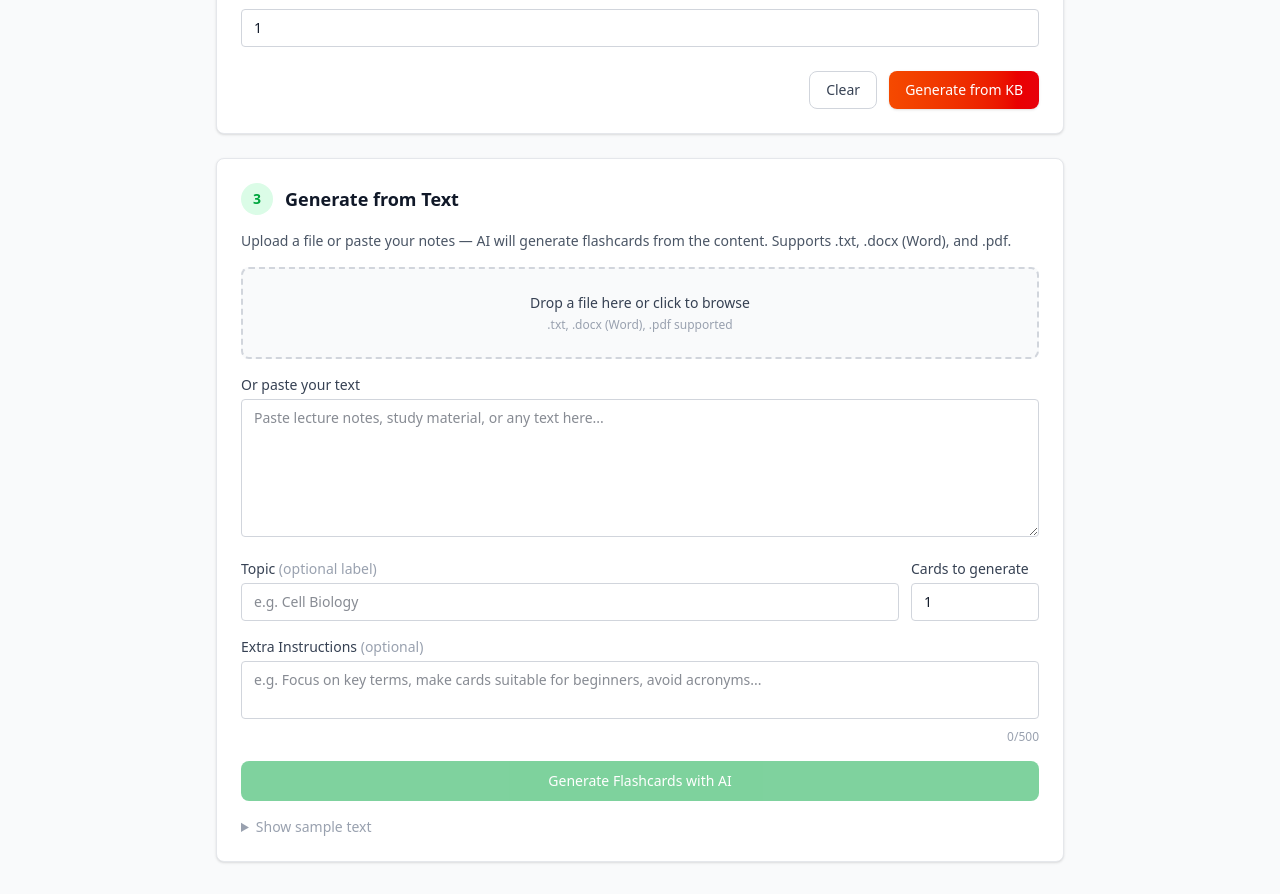
Test: CreateCardPage — generate from text › review modal shows Discard All and Save buttons
(page scrolled)
Type "Some notes" into the text box with placeholder "Paste lecture notes, study material, or any text here...".
click(640, 468); type("Some notes")  # box [241, 399, 1039, 537]
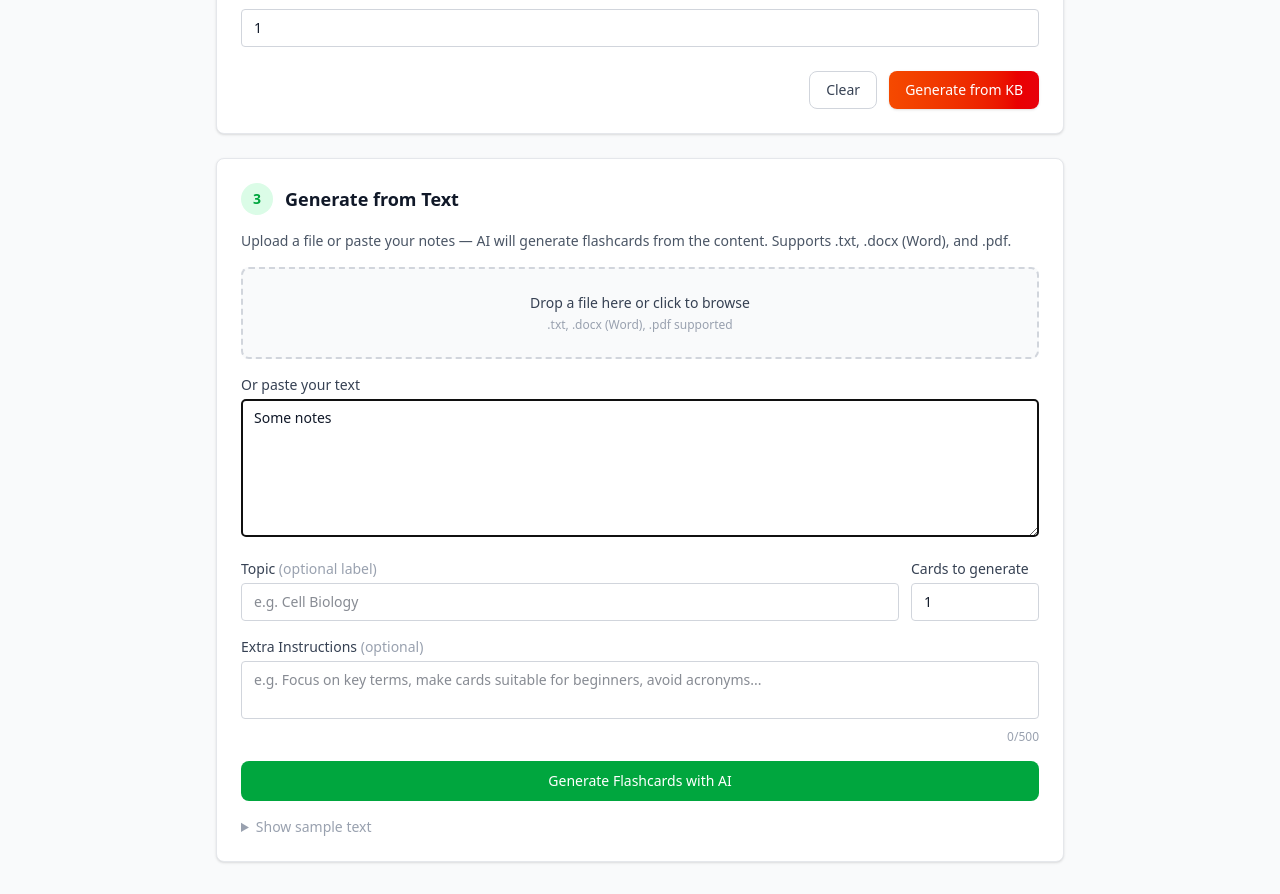
Click the button "Generate Flashcards with AI".
click(640, 781)  # box [241, 761, 1039, 801]
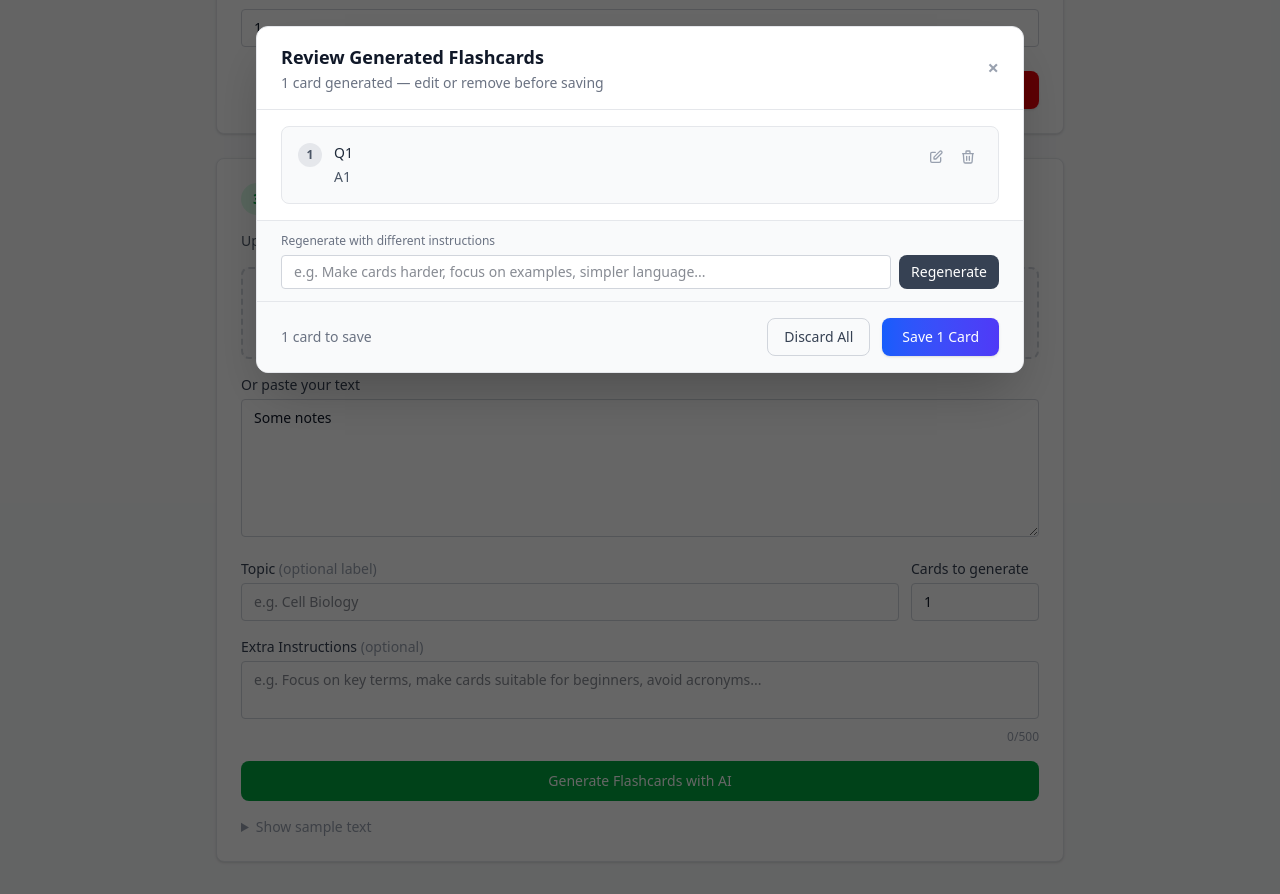
Result: the heading "Review Generated Flashcards" is shown at [281, 45, 544, 69]
Result: the button "Discard All" is shown at [767, 318, 870, 356]
Result: the button "Save 1 Card" is shown at [882, 318, 999, 356]
